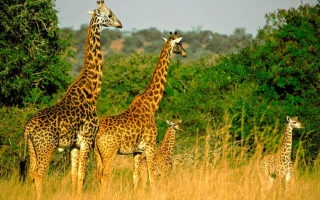giraffe: (17, 0, 123, 200), (93, 31, 191, 200), (257, 114, 304, 197), (134, 118, 183, 196)
